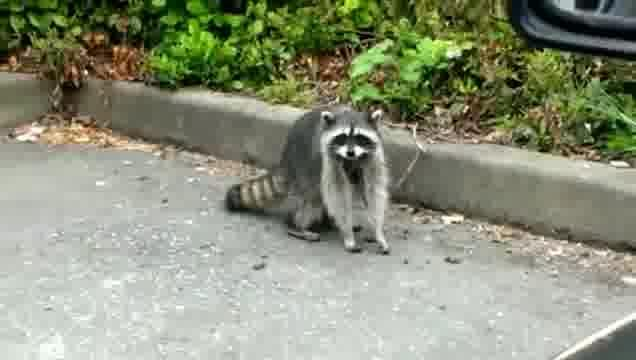raccoon: (226, 108, 392, 258)
